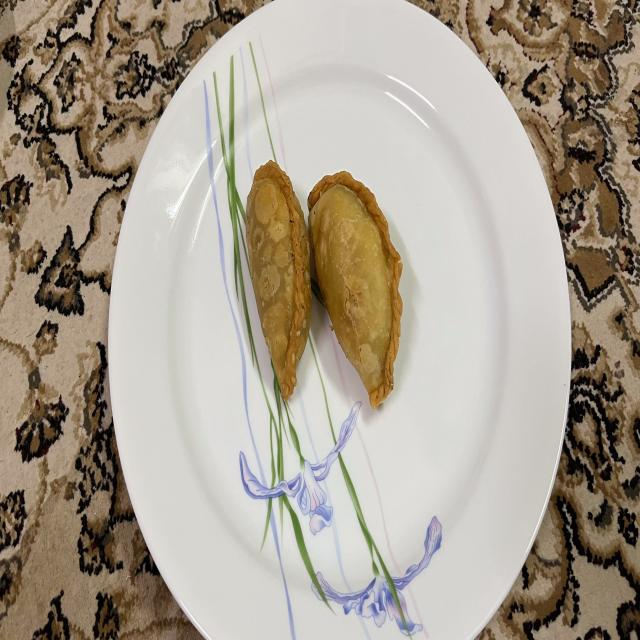karipap: (308, 171, 402, 409), (246, 160, 311, 400)
